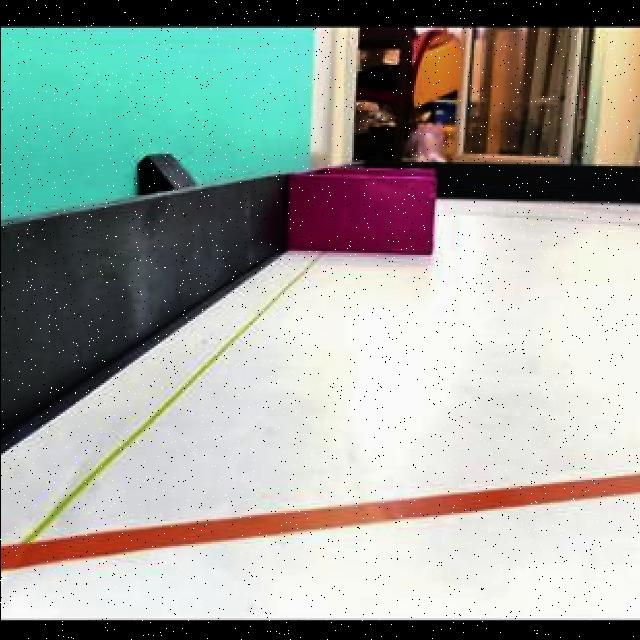xparking: (296, 178, 434, 250)
